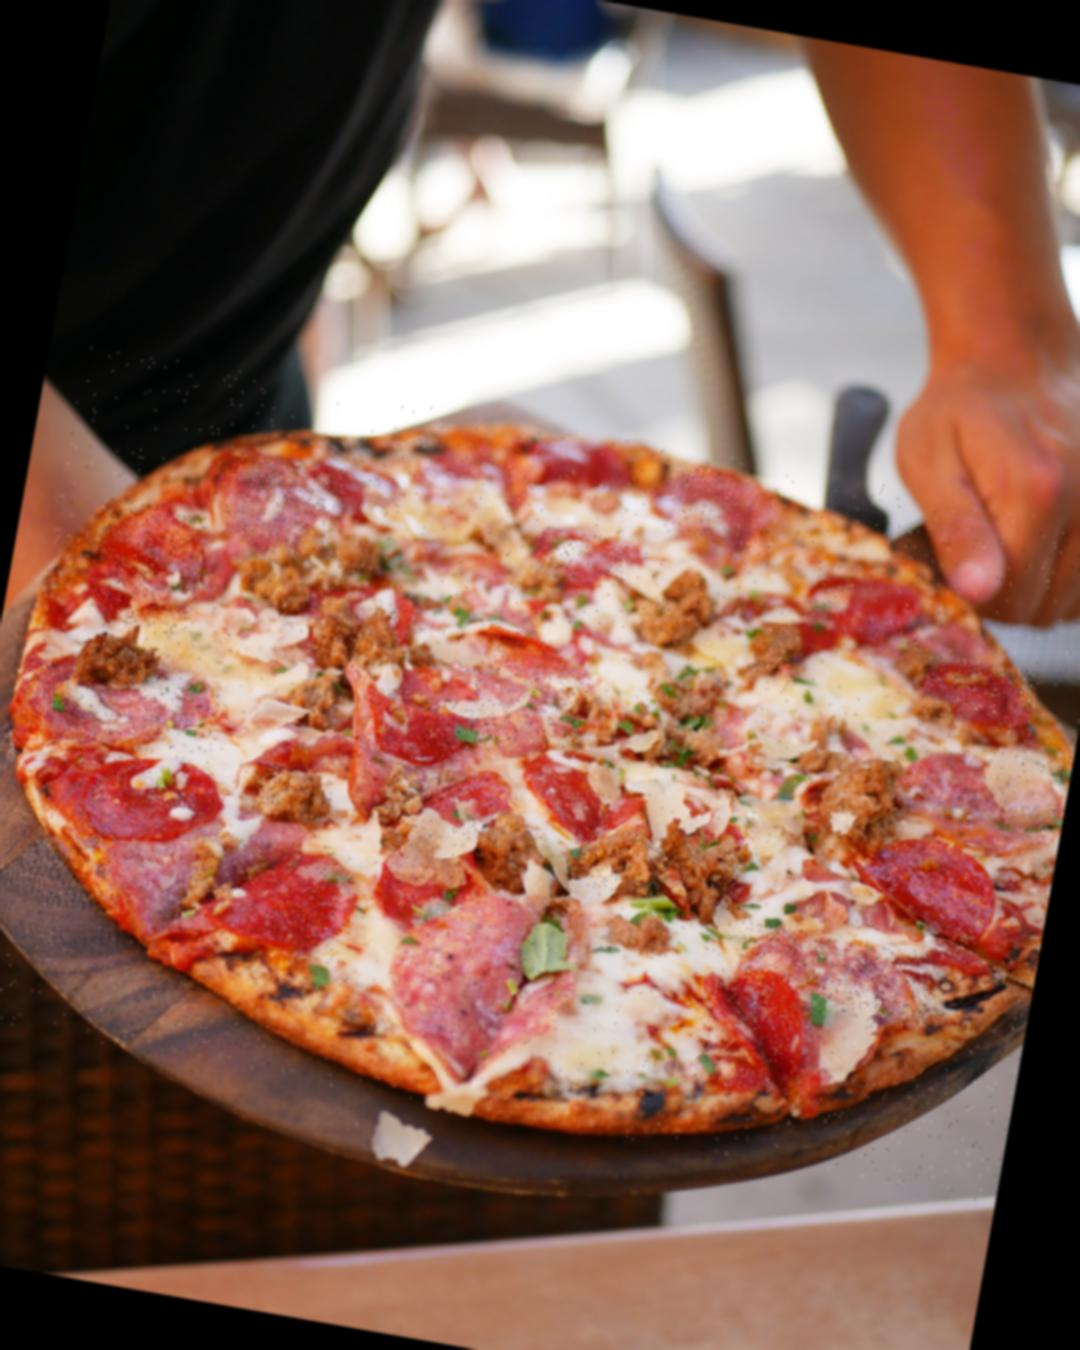Chicken: (568, 823, 747, 912), (242, 517, 372, 617), (797, 748, 906, 856), (638, 666, 735, 759), (312, 597, 413, 674), (636, 564, 712, 641), (471, 807, 534, 892), (76, 636, 169, 690), (257, 763, 337, 821), (745, 619, 802, 687), (382, 773, 421, 824)
Ham: (384, 882, 592, 1062), (731, 920, 936, 1030), (19, 660, 223, 764), (892, 735, 1072, 842), (220, 449, 349, 555), (465, 654, 591, 756), (96, 833, 217, 935), (668, 462, 784, 550)
Pepperoni: (374, 760, 508, 932), (199, 840, 358, 962), (83, 497, 212, 641), (853, 832, 1008, 947), (689, 966, 819, 1100), (76, 745, 227, 849), (517, 745, 650, 842), (919, 654, 1040, 737), (358, 684, 472, 767), (810, 571, 929, 648), (534, 526, 631, 590), (331, 574, 413, 641), (458, 618, 568, 668)
Pizza: (0, 343, 1080, 1203)
